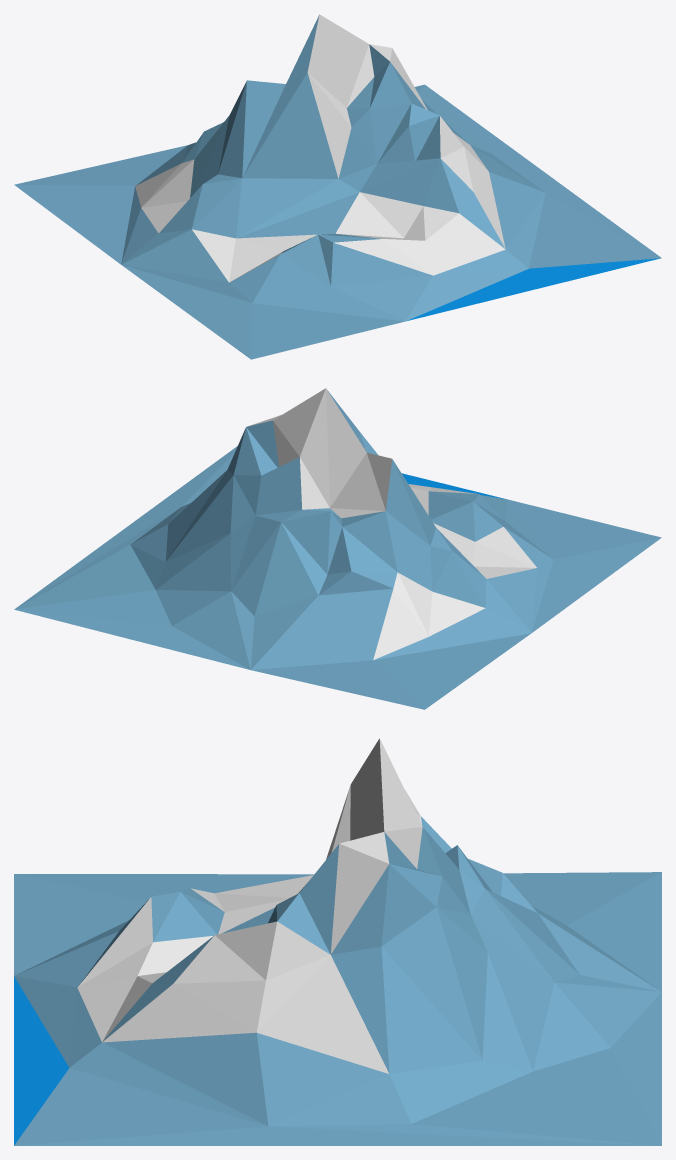
The model's file is mountain 1.fbx.
3 views of the same model, one above another, from view 1: azimuth 30°, elevation 25°; view 2: azimuth 150°, elevation 25°; view 3: azimuth 270°, elevation 25° (orthographic). The views are drawn at different scales.
Visible parts, largest first — view 1: Landscape.005; view 2: Landscape.005; view 3: Landscape.005.
Boxes of the visible parts, bbox=[...] form: Landscape.005: bbox=[14, 14, 661, 359]; Landscape.005: bbox=[14, 388, 661, 709]; Landscape.005: bbox=[14, 738, 661, 1145].
Bounding box in the file's own units: 173 × 80.21 × 173.
